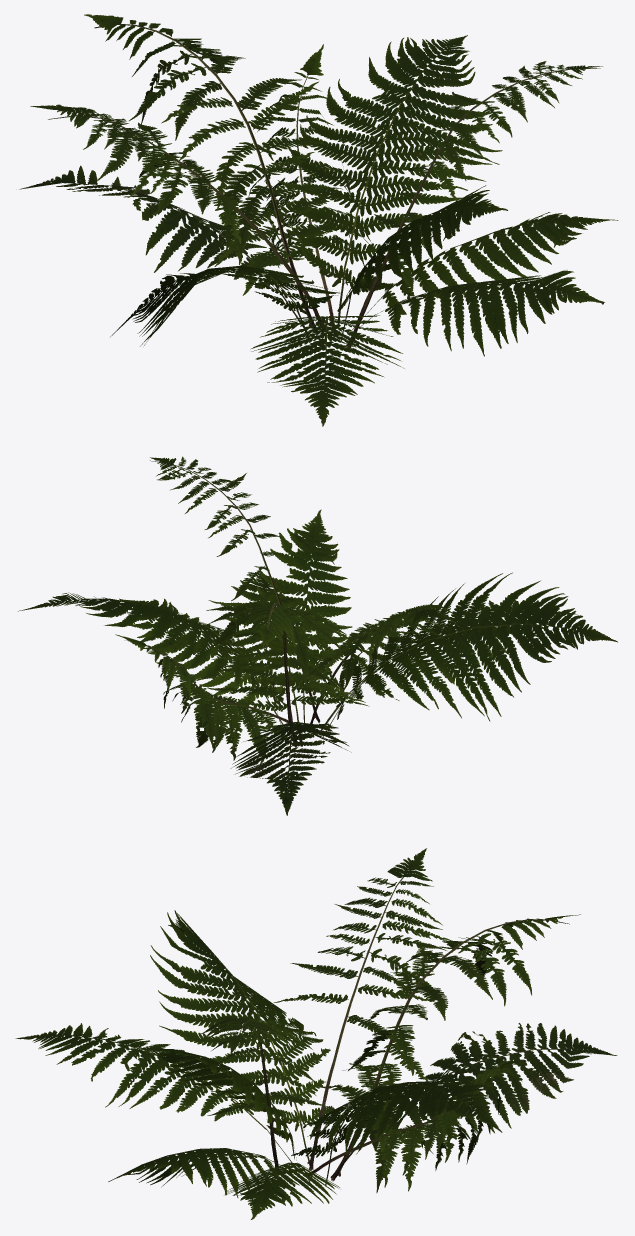
The model's file is egrelti.glb.
The picture shows the model from 3 angles, top to bottom: view 1: azimuth 30°, elevation 25°; view 2: azimuth 150°, elevation 25°; view 3: azimuth 270°, elevation 25°; orthographic projection. The views are drawn at different scales.
Visible parts, largest first — view 1: egrelti; view 2: egrelti; view 3: egrelti.
Boxes of the visible parts, x1,y1,x2,y2 form: egrelti: (19,14,618,426); egrelti: (18,456,617,815); egrelti: (15,848,617,1219).
Size of the model in its own units: 1.57 by 0.7 by 1.61.
Materials: 1 (1 with a texture image).
